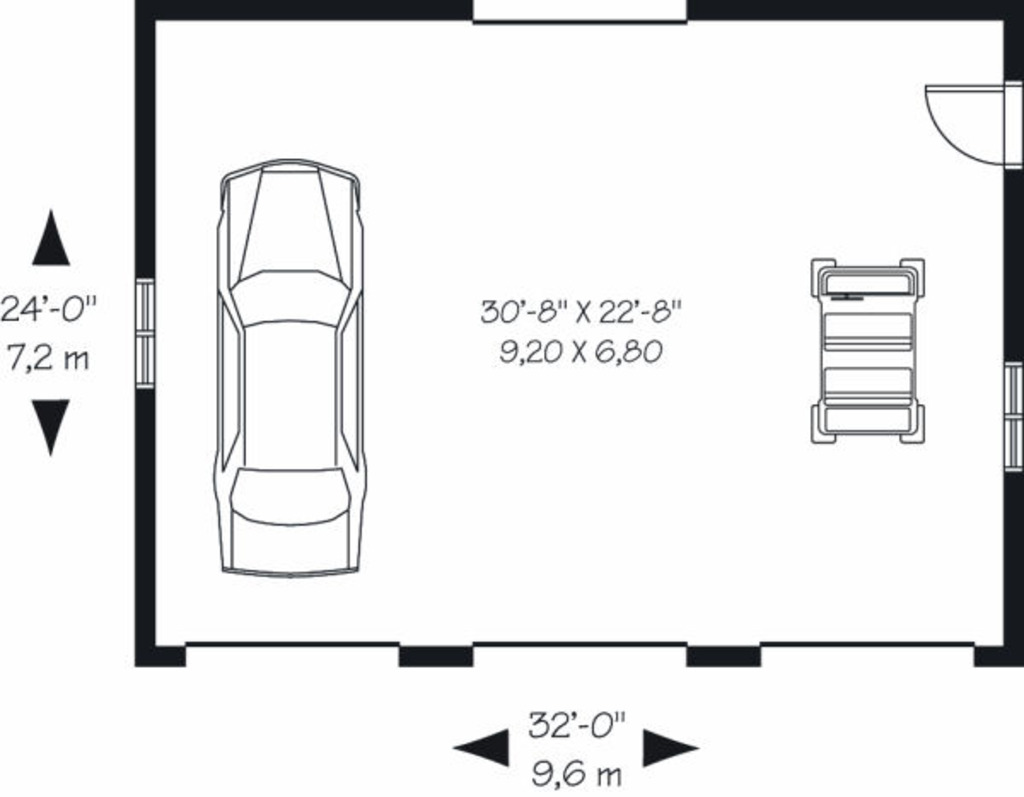door: (921, 77, 1024, 172)
window: (472, 1, 698, 34), (128, 280, 159, 387), (1000, 359, 1024, 474)
